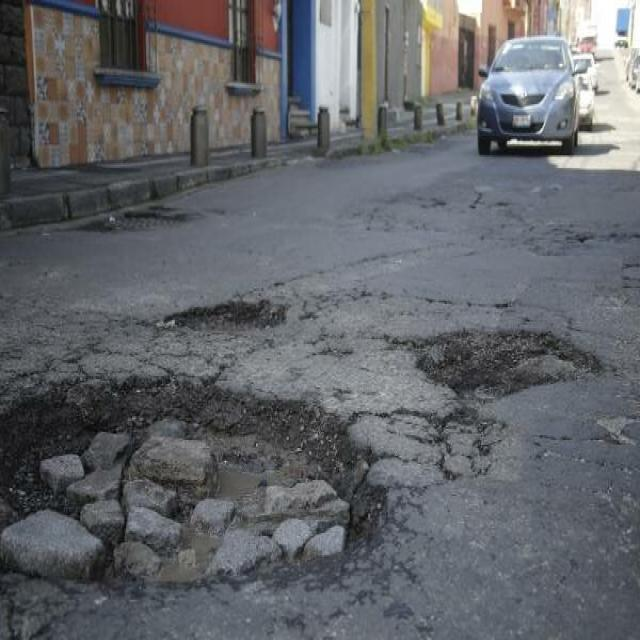Pothole: (1, 381, 395, 613), (386, 282, 618, 442), (149, 274, 330, 366)
